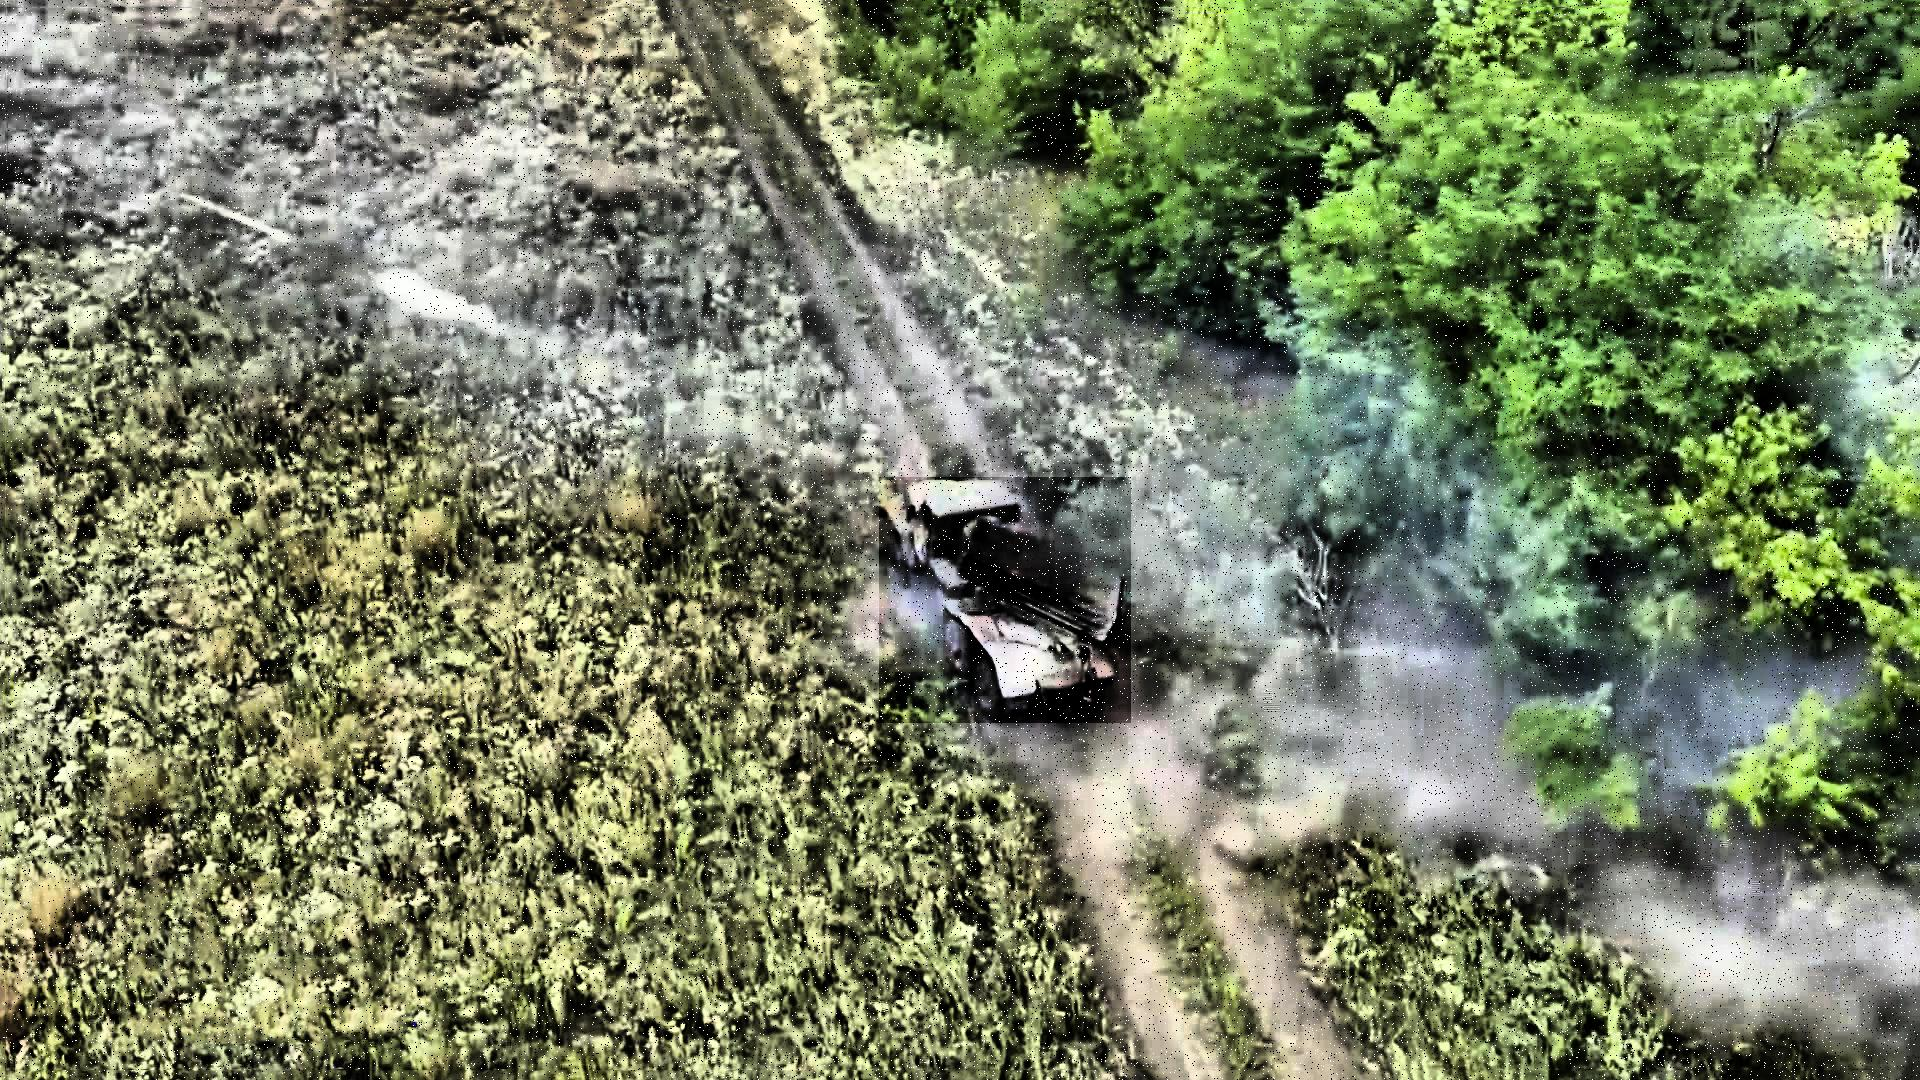military-vehicle: (880, 477, 1131, 723)
